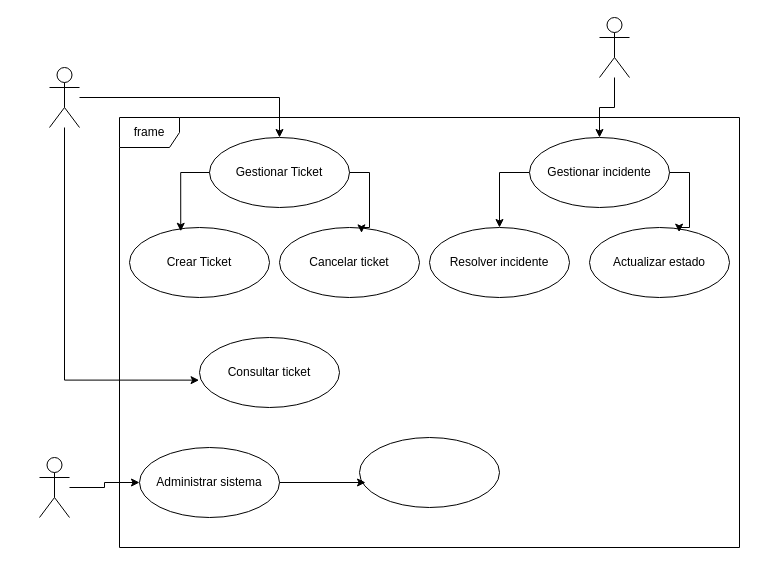
Some shapes in this 757 by 565 pixel diagram are drawn without their labels. Here are the shapes that lost their labels. From the top down, the centre of each, then its label:
(614,47): Tecnico de soporte
(64,97): Usuario final
(54,487): Administrador
(429,472): Asignar tecnico
